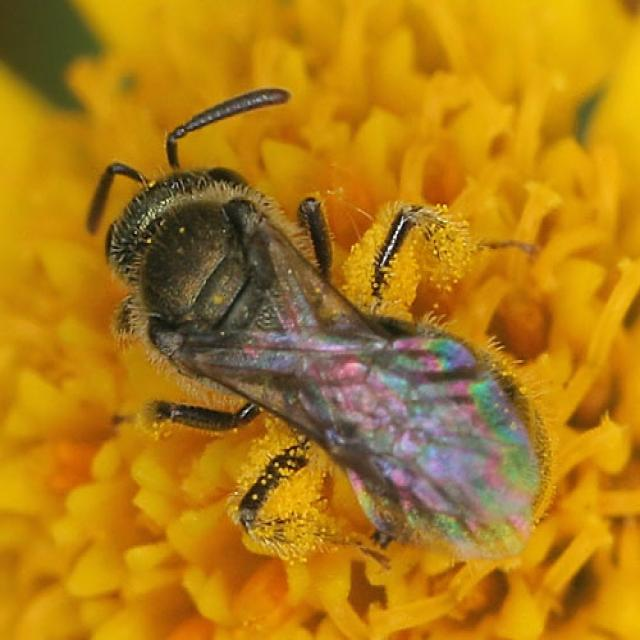Lasioglossum: (71, 80, 562, 561)
